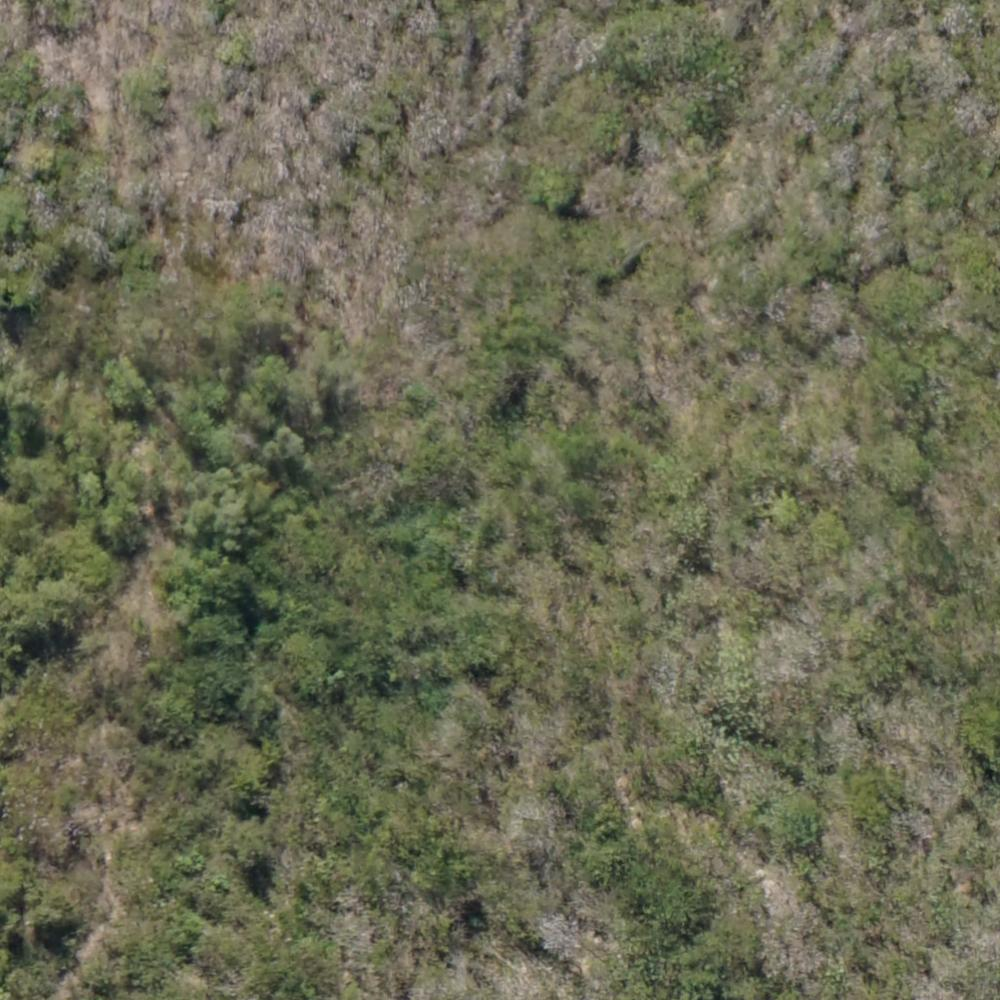tree: (860, 273, 941, 336), (197, 468, 259, 529), (187, 658, 247, 709), (880, 442, 931, 501), (651, 453, 705, 499), (108, 363, 149, 415), (100, 500, 153, 538), (253, 354, 290, 402), (226, 822, 269, 863), (782, 794, 820, 839), (535, 163, 573, 206), (564, 479, 606, 517), (207, 562, 249, 599), (670, 506, 710, 544), (768, 488, 802, 529), (107, 459, 141, 495), (304, 665, 340, 699), (263, 425, 305, 454), (1, 276, 43, 303), (283, 636, 318, 664), (204, 427, 231, 461), (199, 377, 231, 405)
